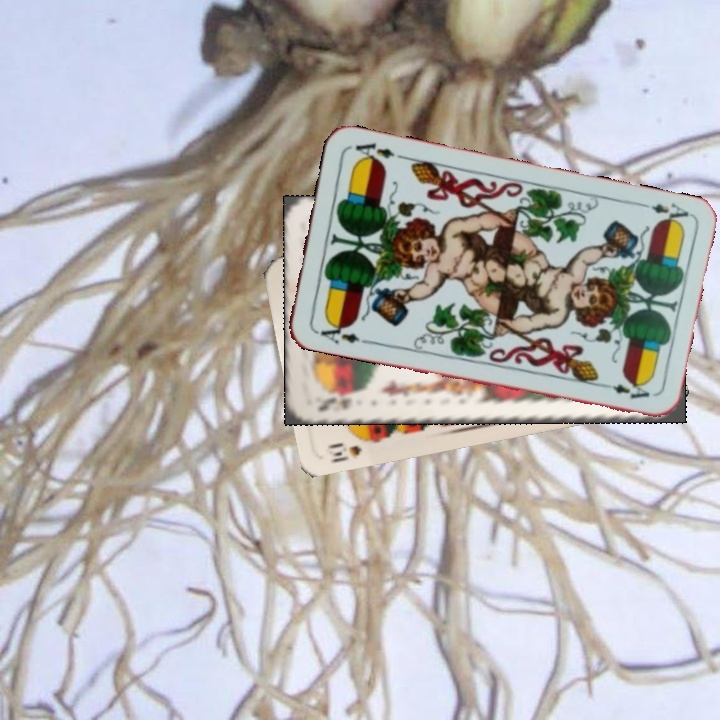EA: (633, 198, 691, 228), (311, 317, 362, 347)
S10: (321, 432, 379, 466)
SK: (314, 389, 363, 415)
